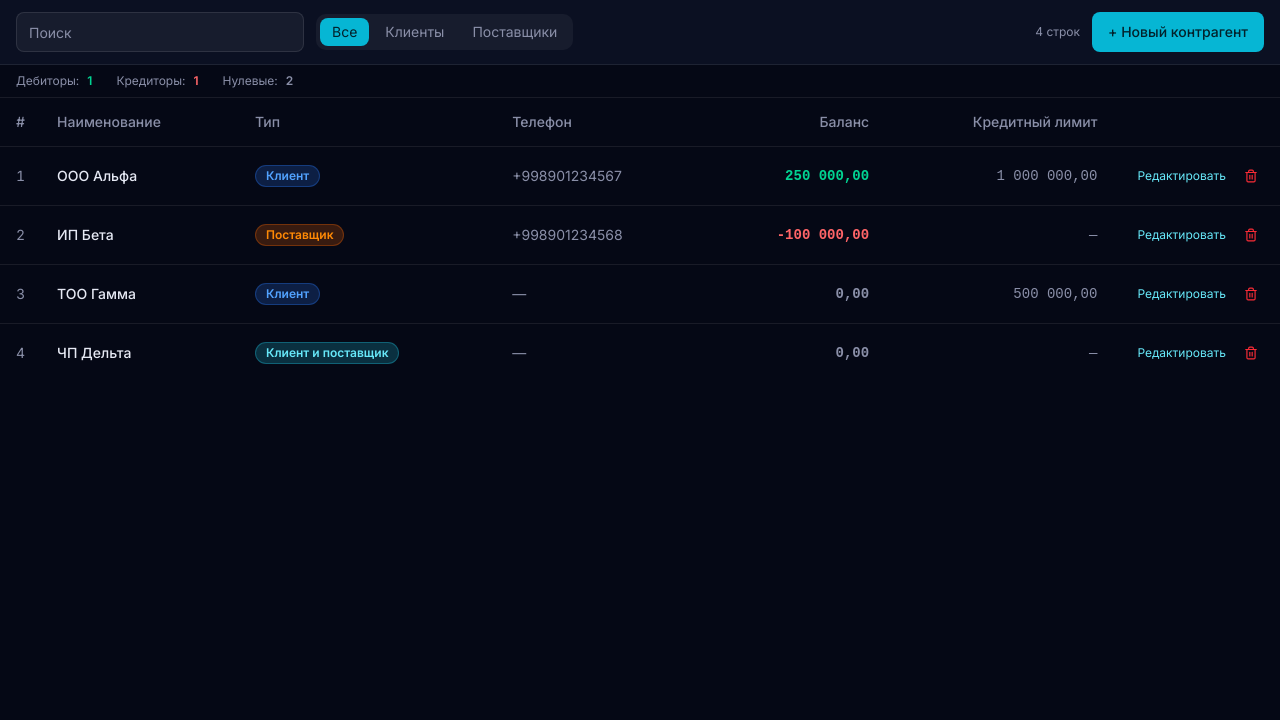
CounterpartiesPage › открывает форму создания контрагента
Expected: the text "ООО Альфа" is shown, top-left (41, 146), bottom-right (239, 205)
Step 1. Click the button "+ Новый контрагент" → click(1178, 32), box top-left (1092, 12), bottom-right (1264, 52)
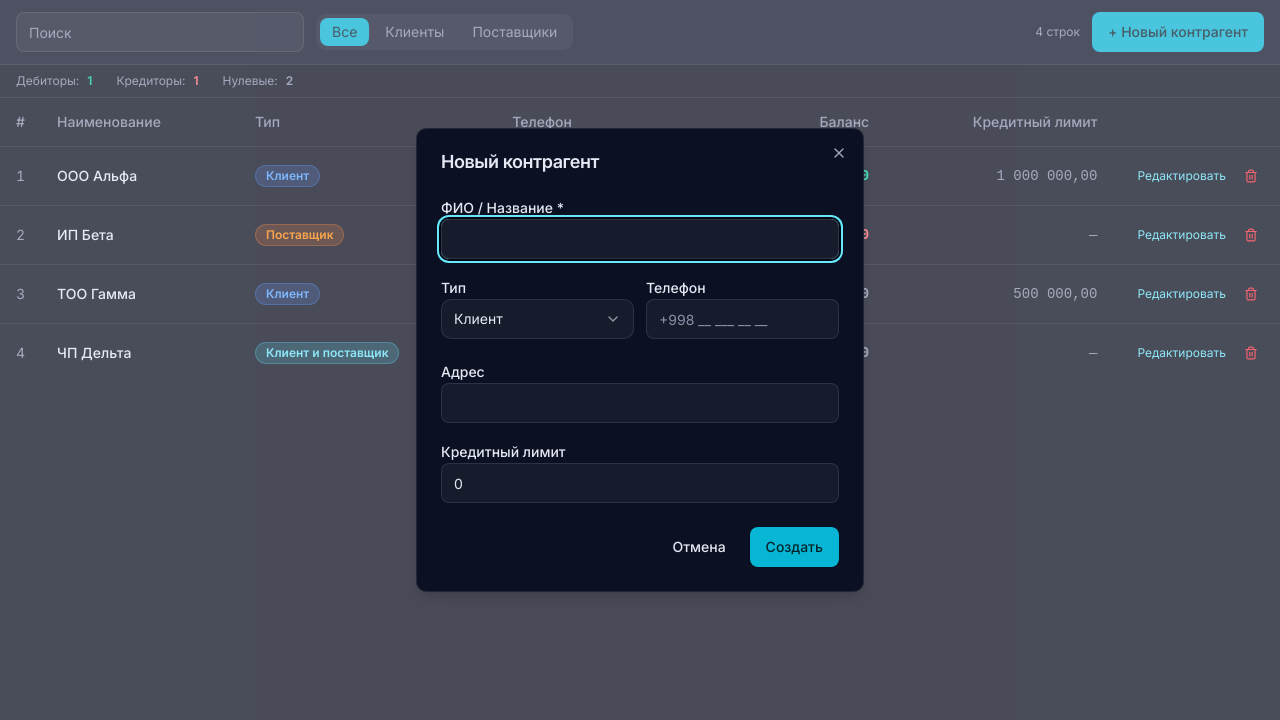
Now the dialog is shown, box top-left (416, 128), bottom-right (864, 592)
